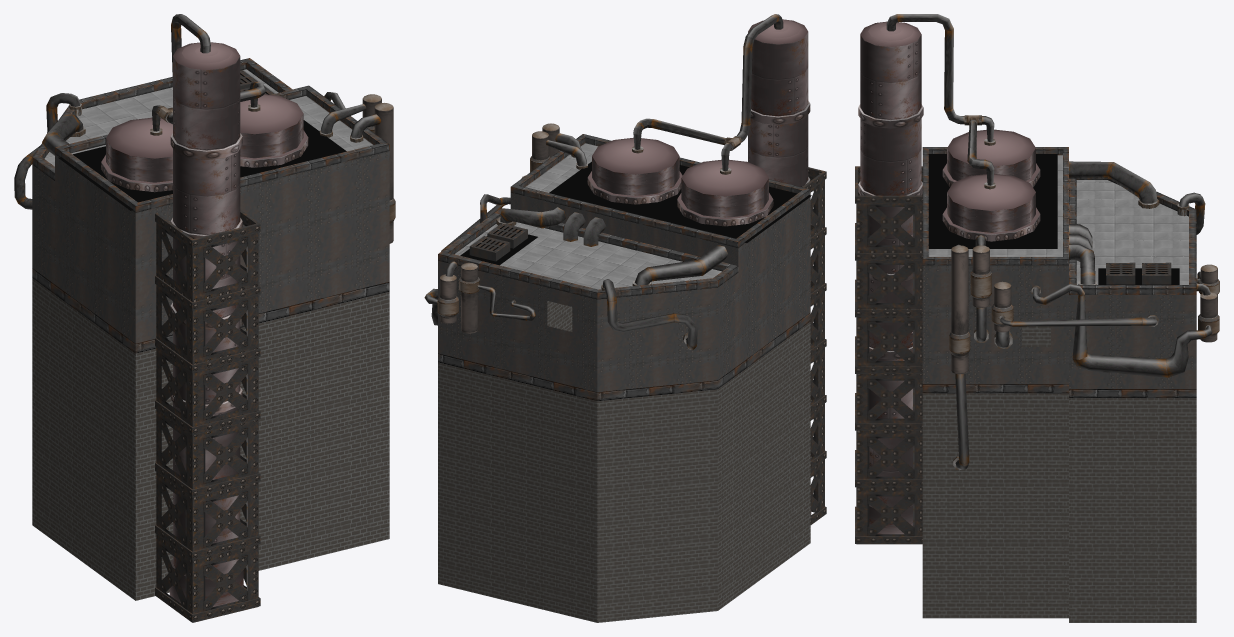
The model's file is factory_boiler_room_exterior.fbx.
The picture shows the model from 3 angles, left to right: view 1: azimuth 30°, elevation 25°; view 2: azimuth 150°, elevation 25°; view 3: azimuth 270°, elevation 25°; orthographic projection. The views are drawn at different scales.
Parts seen in each view (by area): view 1: Building, Support, TallBoiler, BigBoilers, Pipes, Plane, BoilersExterior; view 2: Building, BigBoilers, Pipes, TallBoiler, Support, Plane, BoilersExterior, Vents; view 3: Building, Support, TallBoiler, Pipes, BigBoilers, BoilersExterior, Plane, Vents.
Boxes of the visible parts, x1,y1,x2,y2 form: Building: (32, 58, 389, 600); Support: (155, 209, 260, 622); TallBoiler: (169, 42, 243, 607); BigBoilers: (101, 94, 308, 192); Pipes: (14, 14, 381, 209); Plane: (58, 120, 346, 210); BoilersExterior: (362, 94, 395, 243); Building: (438, 134, 810, 622); BigBoilers: (587, 137, 773, 226); Pipes: (424, 14, 783, 349); TallBoiler: (748, 19, 811, 515); Support: (802, 167, 826, 524); Plane: (549, 161, 811, 242); BoilersExterior: (437, 123, 559, 333); Vents: (469, 223, 527, 261); Building: (922, 147, 1196, 622); Support: (855, 166, 922, 544); TallBoiler: (858, 21, 923, 534); Pipes: (886, 14, 1212, 469); BigBoilers: (942, 129, 1040, 241); BoilersExterior: (949, 245, 1219, 374); Plane: (928, 154, 1057, 248); Vents: (1106, 262, 1171, 284).
Size of the model in its own units: 4983 by 9011 by 5775.
